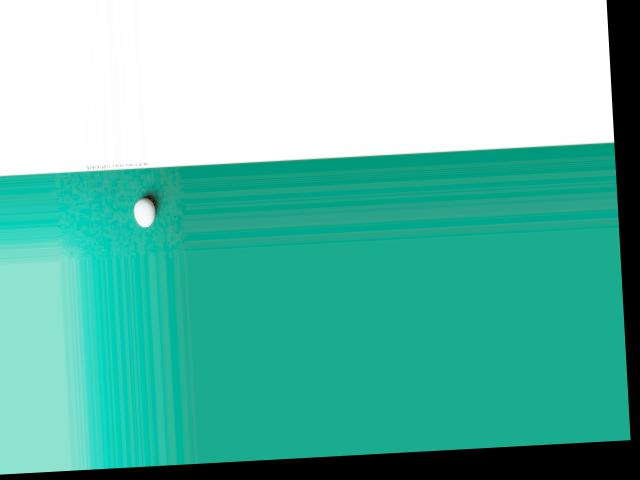egg: (131, 197, 154, 227)
